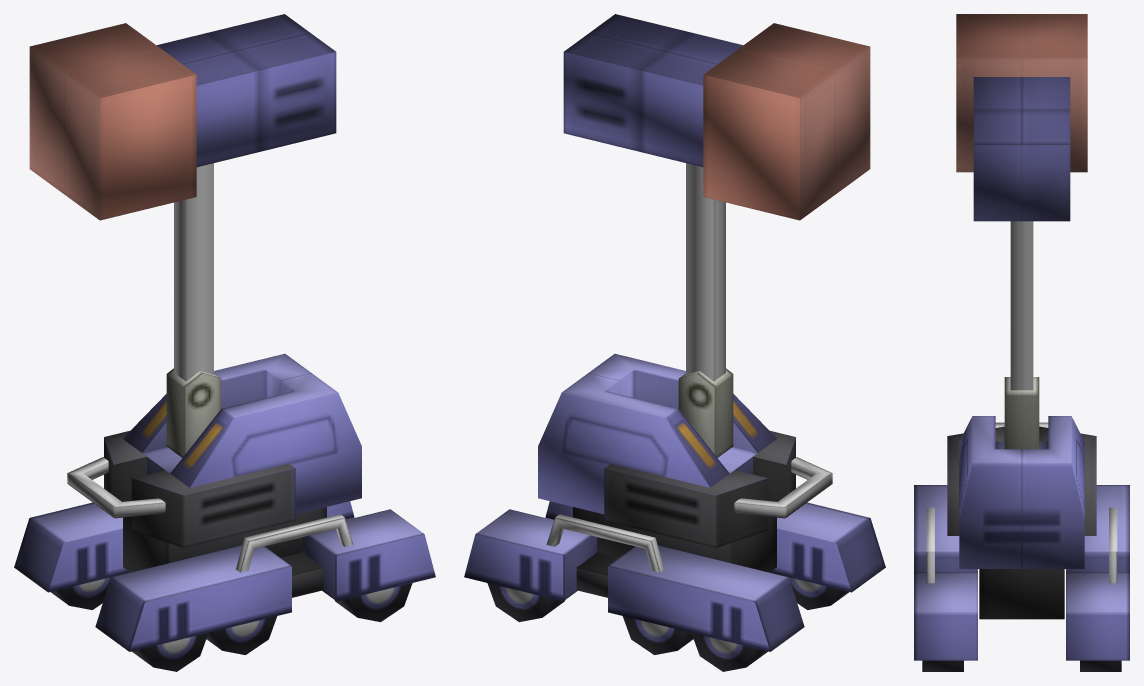
File: hammer_skin.FBX
3 views of the same model, side by side, from view 1: azimuth 30°, elevation 25°; view 2: azimuth 150°, elevation 25°; view 3: azimuth 270°, elevation 25° (orthographic). The views are drawn at different scales.
Parts seen in each view (by area): view 1: Box002; view 2: Box002; view 3: Box002.
Boxes of the visible parts, <box> form: Box002: <box>14,14,435,671</box>; Box002: <box>464,14,885,671</box>; Box002: <box>914,14,1129,671</box>.
Size of the model in its own units: 158 by 101 by 277.
1 material, 1 textured.
